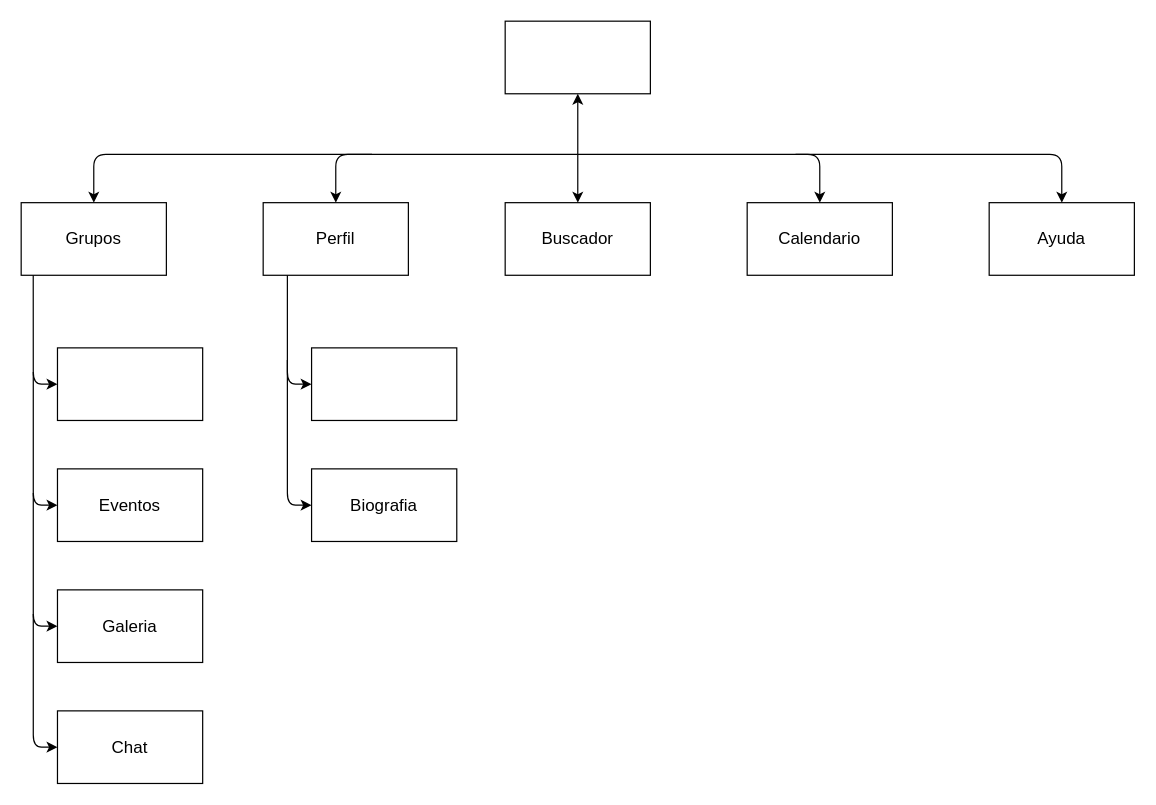
This 1156x805 diagram has some shape labels left out. Each missing label, with the box of its shape:
Nivel: (310, 347, 457, 420)
Pagina de inicio: (504, 20, 650, 94)
Resumen: (56, 347, 203, 420)
